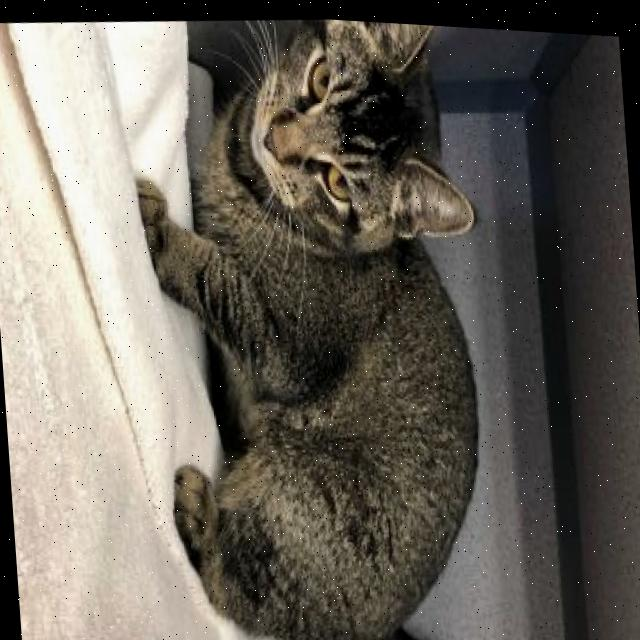Abyssinian: (113, 5, 519, 640)
